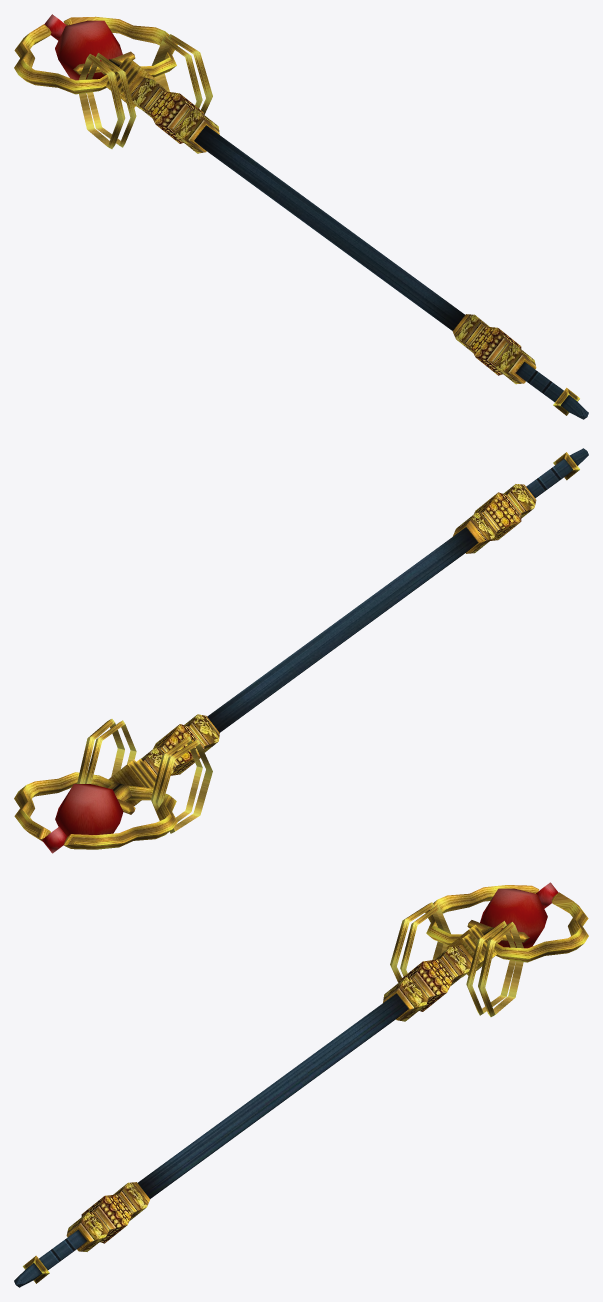
The model's file is wand_s_shortwand_f_wand_f.glb.
The picture shows the model from 3 angles, top to bottom: view 1: azimuth 30°, elevation 25°; view 2: azimuth 150°, elevation 25°; view 3: azimuth 330°, elevation 25°; orthographic projection.
Size of the model in its own units: 0.2537 by 0.121 by 1.53.
Materials: 1 (1 with a texture image).
